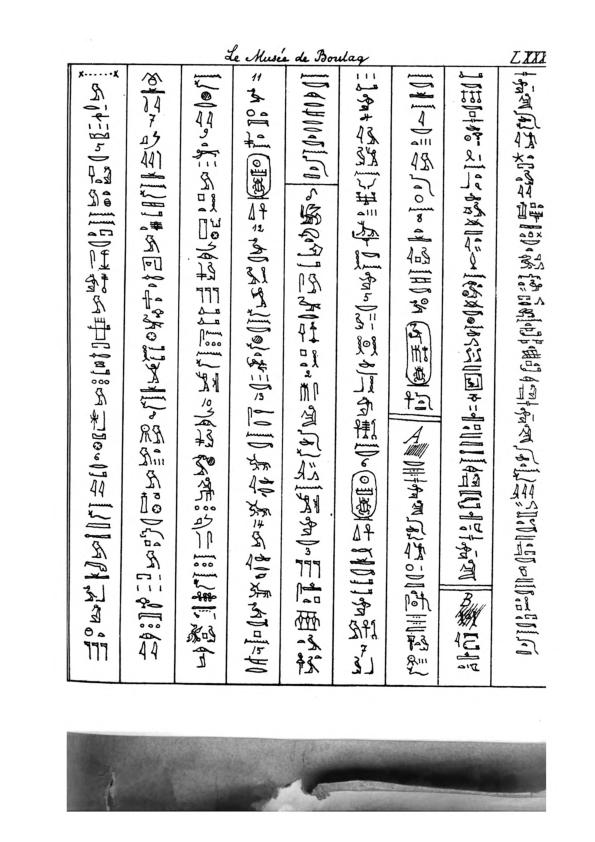circle: (402, 319, 435, 390), (346, 468, 379, 522), (244, 151, 274, 202)
